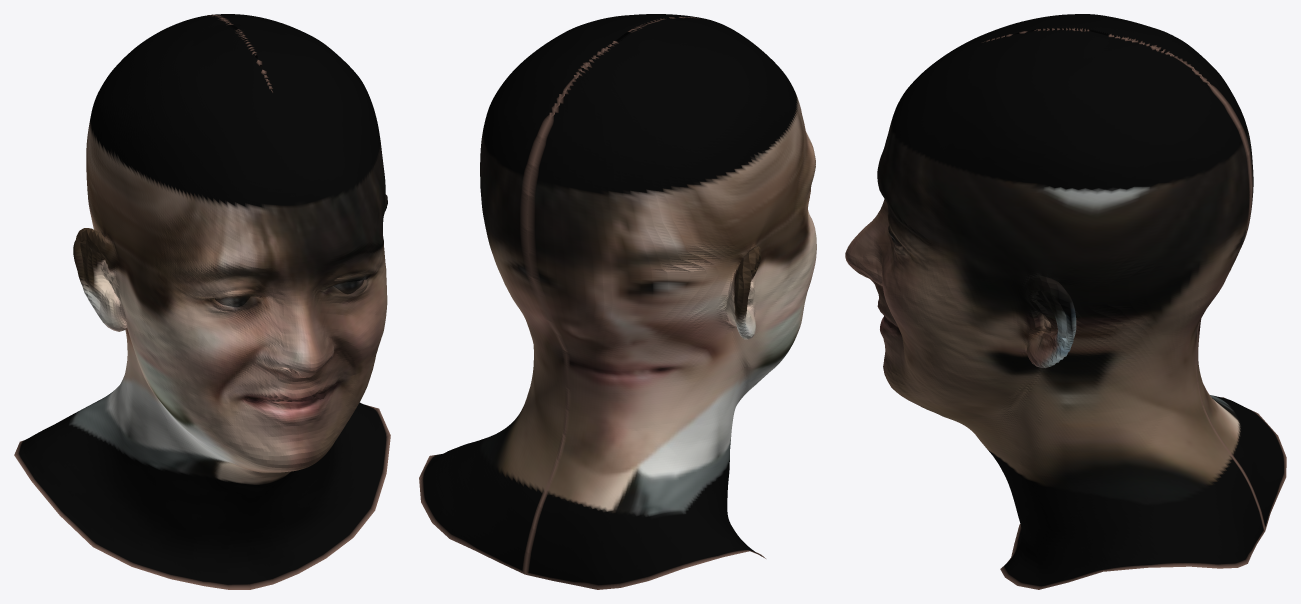
File: mesh_coarse_detail.obj
3 views of the same model, side by side, from view 1: azimuth 30°, elevation 25°; view 2: azimuth 150°, elevation 25°; view 3: azimuth 270°, elevation 25° (orthographic). The views are drawn at different scales.
Size of the model in its own units: 0.213 by 0.322 by 0.2388.
